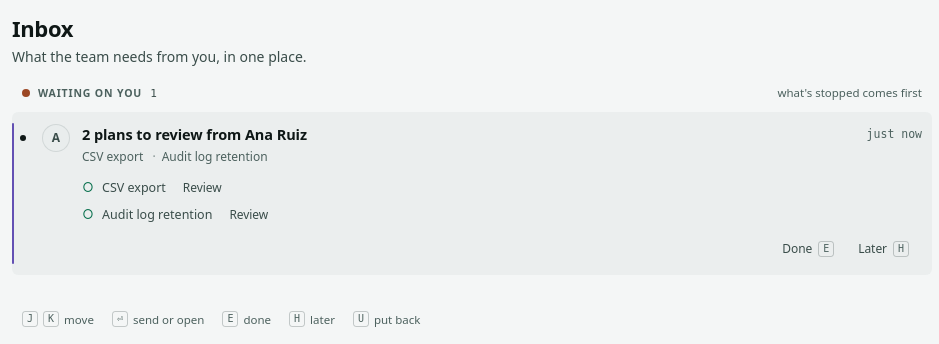
the Inbox queue › Done on one teammate's requests settles only when every dismissal is taken; a refused one stays, with its reason
Click the button with test id "row-done" at [808, 248], box [773,236,843,260]
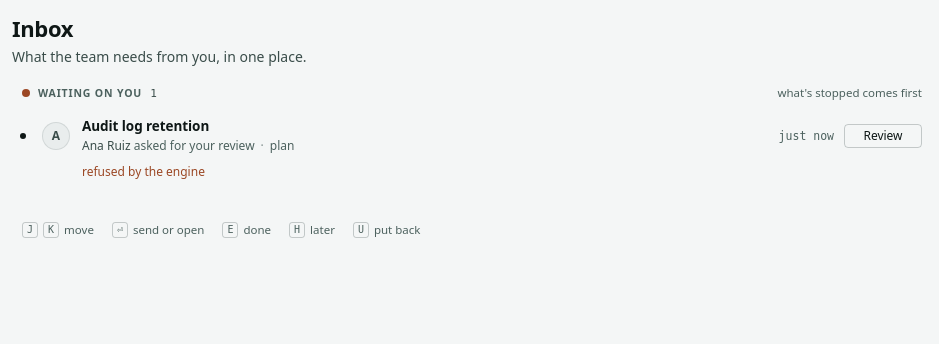
Expected: the message reads "refused by the engine", [82,163,205,180]
